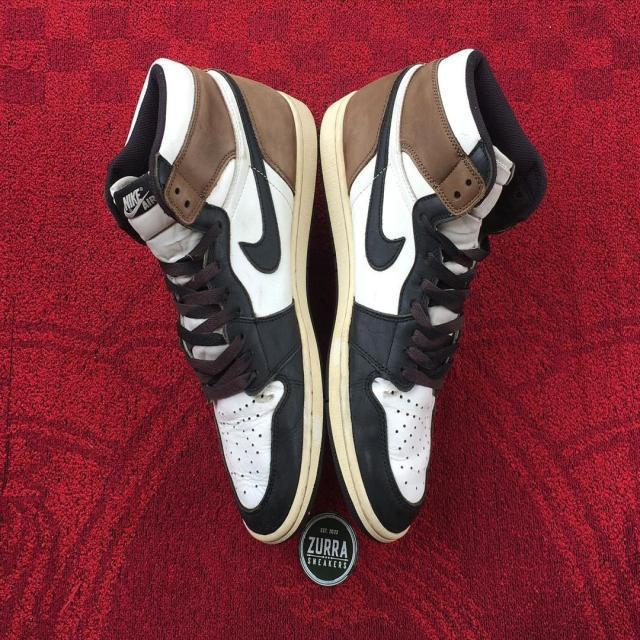nike original jordan 1: (317, 51, 548, 556), (100, 62, 325, 559)
